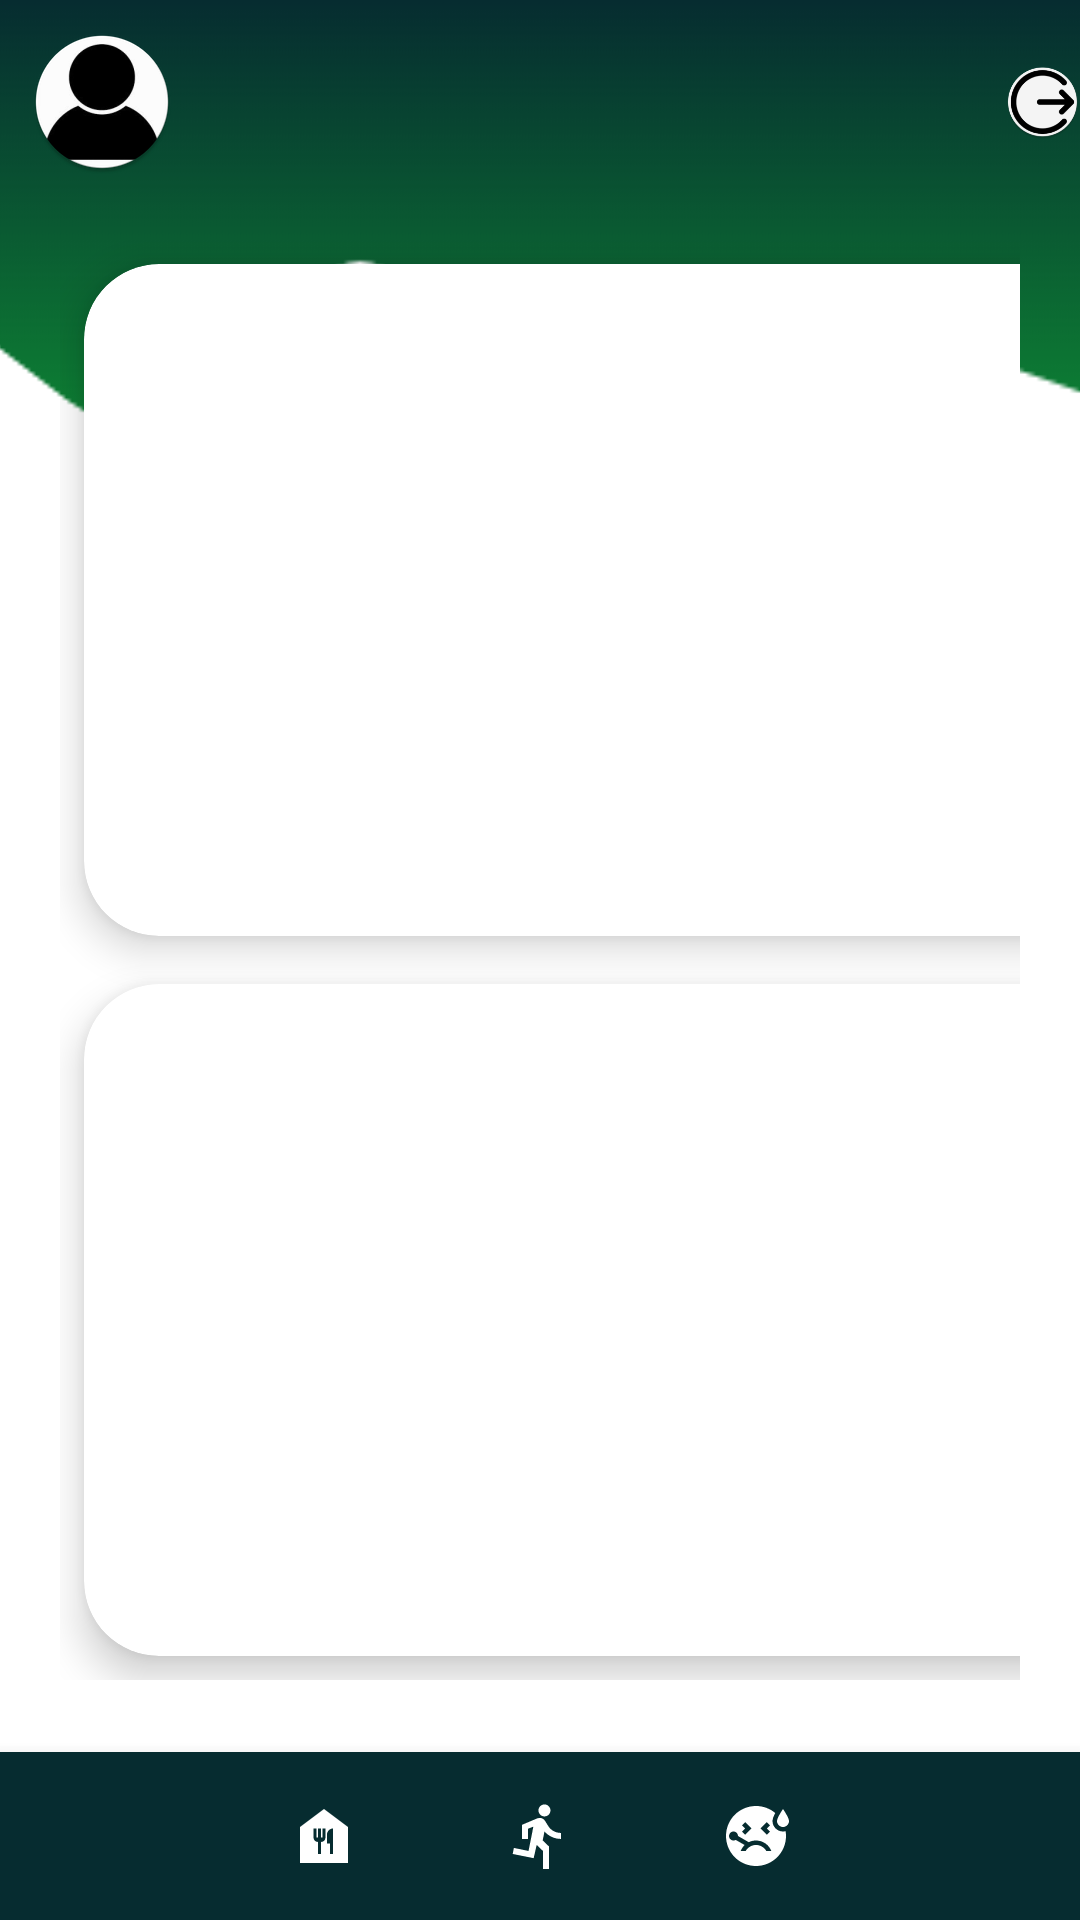

Screen size 1080×1920. Icon name, then its box in pixels as Rect(x1, y1, x2, y2):
user profile: Rect(35, 35, 169, 168)
